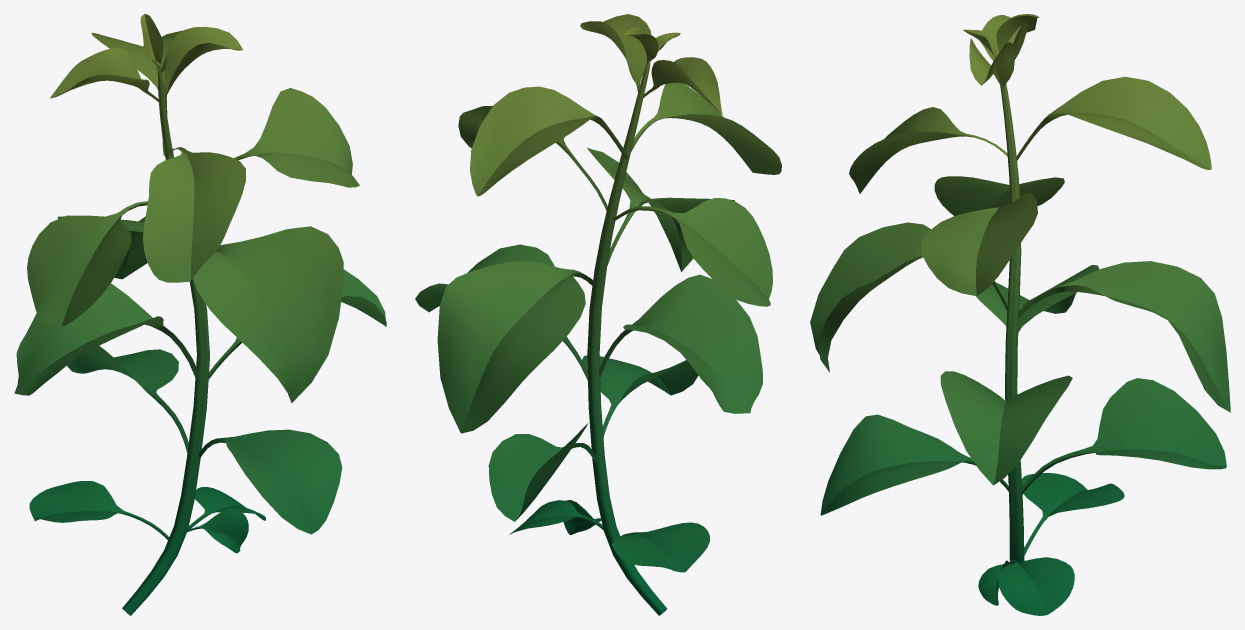
File: nettle_plant_1.glb
3 views of the same model, side by side, from view 1: azimuth 30°, elevation 25°; view 2: azimuth 150°, elevation 25°; view 3: azimuth 270°, elevation 25° (orthographic). The views are drawn at different scales.
Parts seen in each view (by area): view 1: nettle_plant_medium_b_LOD0; view 2: nettle_plant_medium_b_LOD0; view 3: nettle_plant_medium_b_LOD0.
Part boxes in pixels (x1=…): nettle_plant_medium_b_LOD0: x1=14, y1=14, x2=386, y2=615; nettle_plant_medium_b_LOD0: x1=415, y1=14, x2=781, y2=615; nettle_plant_medium_b_LOD0: x1=810, y1=14, x2=1230, y2=615.
Size of the model in its own units: 0.0655 by 0.1046 by 0.0662.
